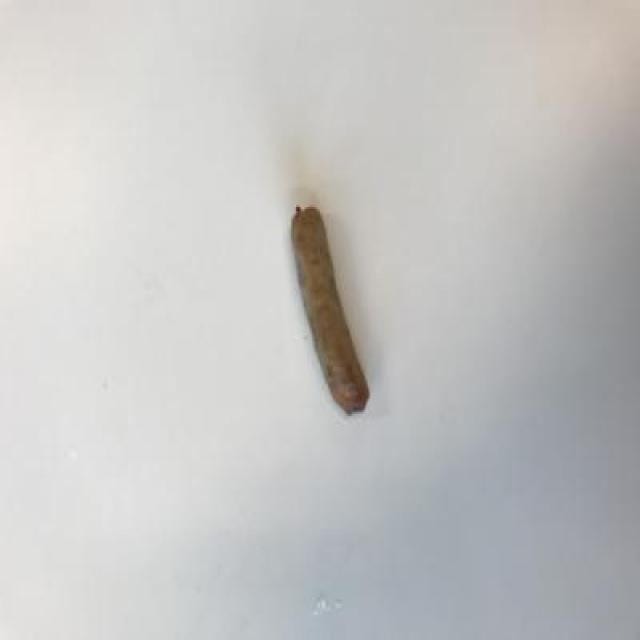compost: (260, 195, 398, 435)
